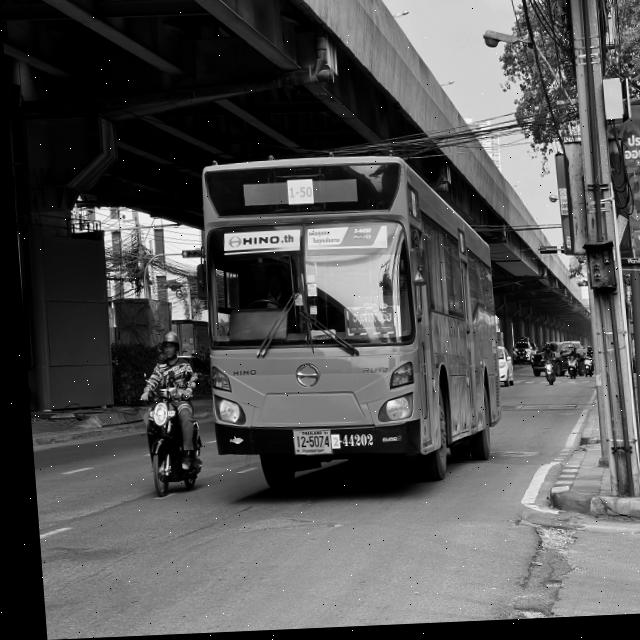BMTA-bus: (197, 158, 497, 497)
Bus Line Number: (282, 181, 314, 211)
Bus Side Number: (323, 432, 369, 453)
Destination Sign: (337, 308, 396, 344)
